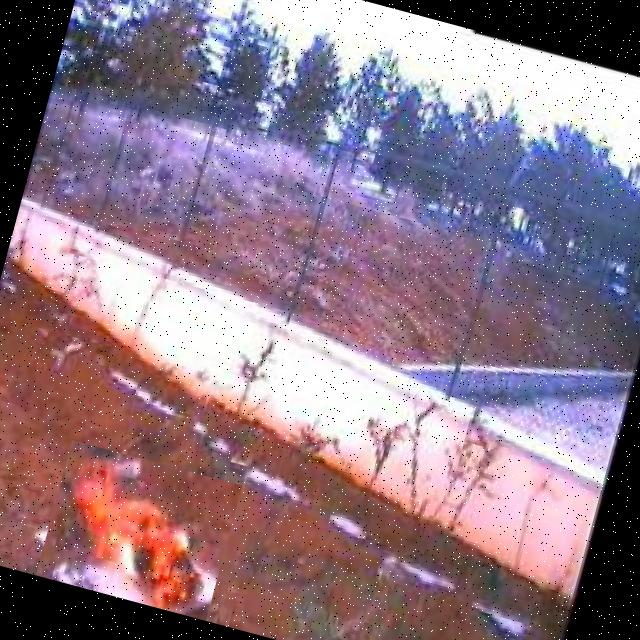fire: (35, 440, 242, 620)
